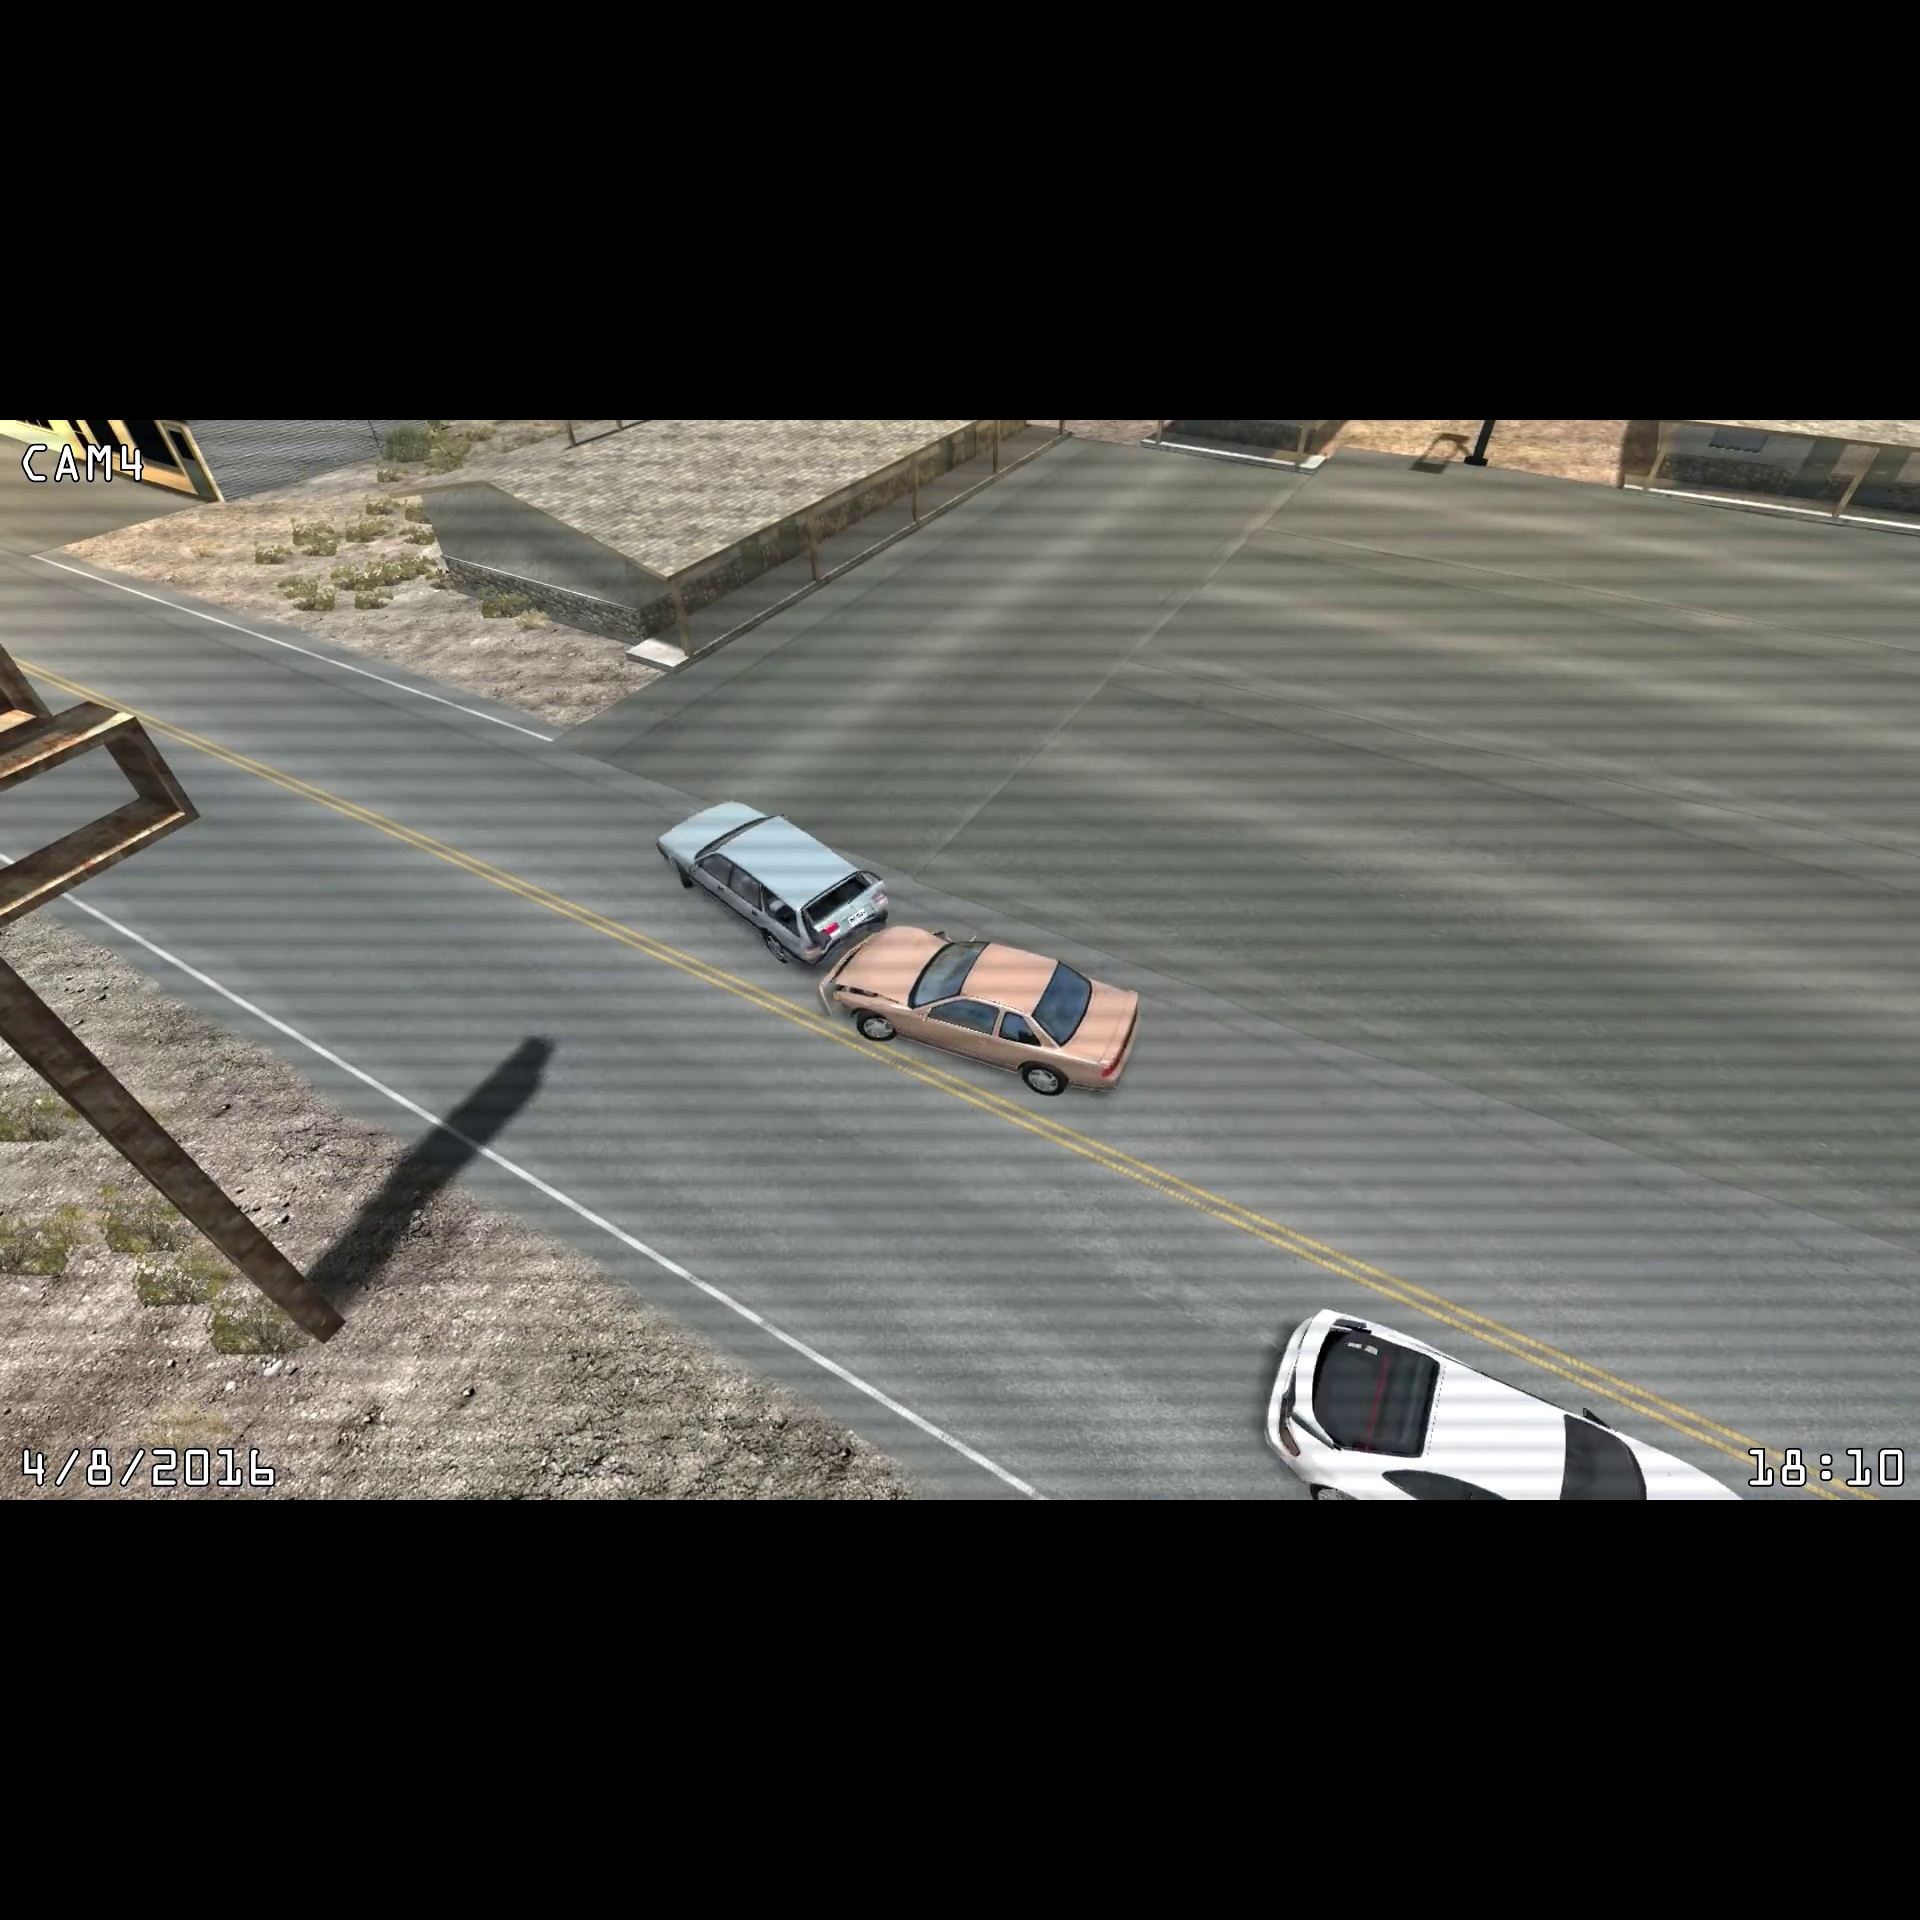vehicle: (1248, 1305, 1760, 1502), (812, 911, 1152, 1113), (649, 788, 895, 969)
